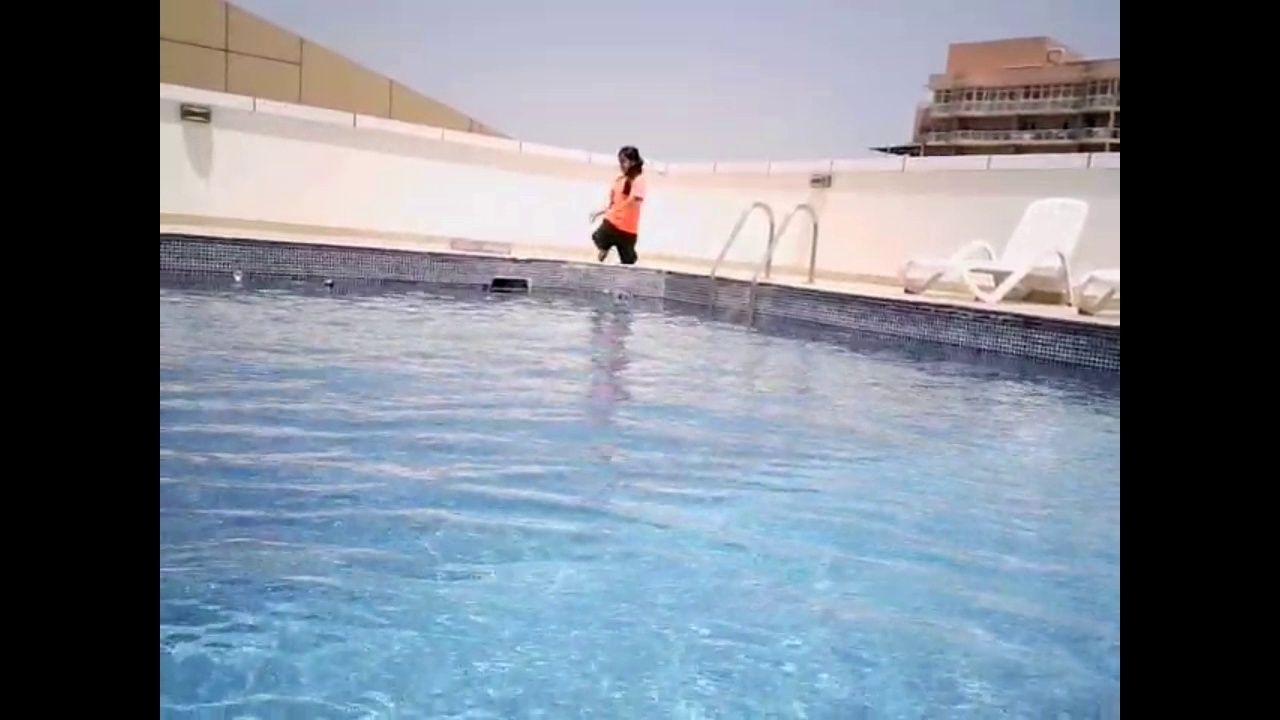debris: (610, 287, 632, 307), (230, 266, 246, 282), (321, 275, 336, 291), (597, 285, 610, 298)
